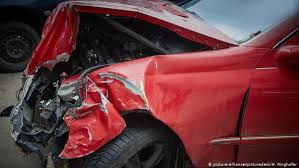car: (19, 8, 295, 166)
